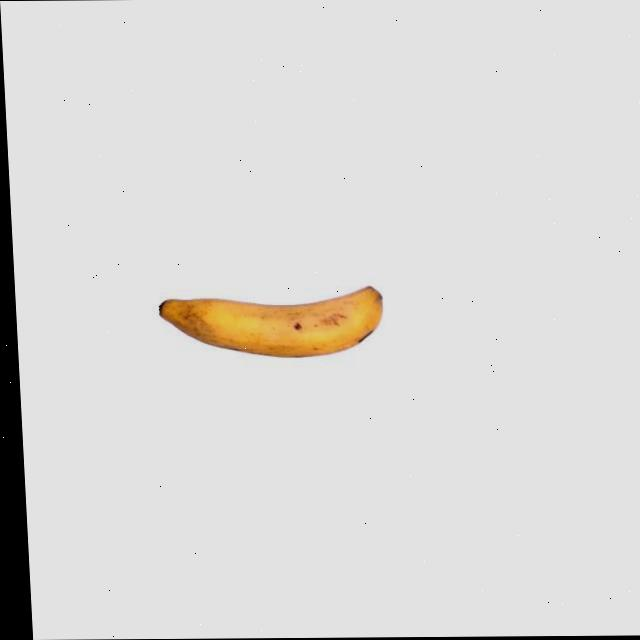banana: (153, 283, 391, 360)
